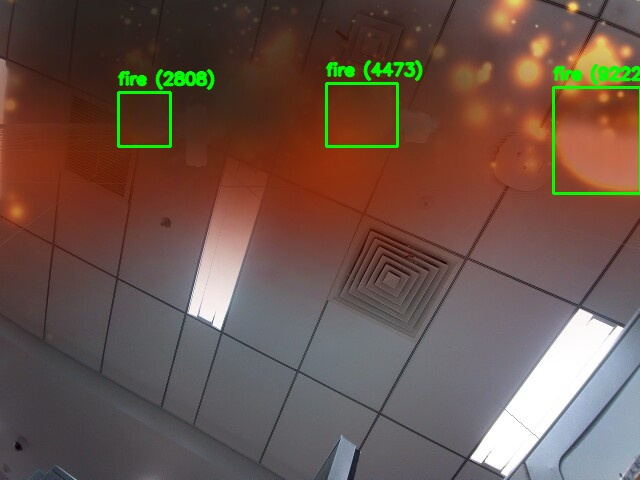fire: (553, 87, 640, 193), (326, 83, 397, 146), (118, 92, 170, 146)
